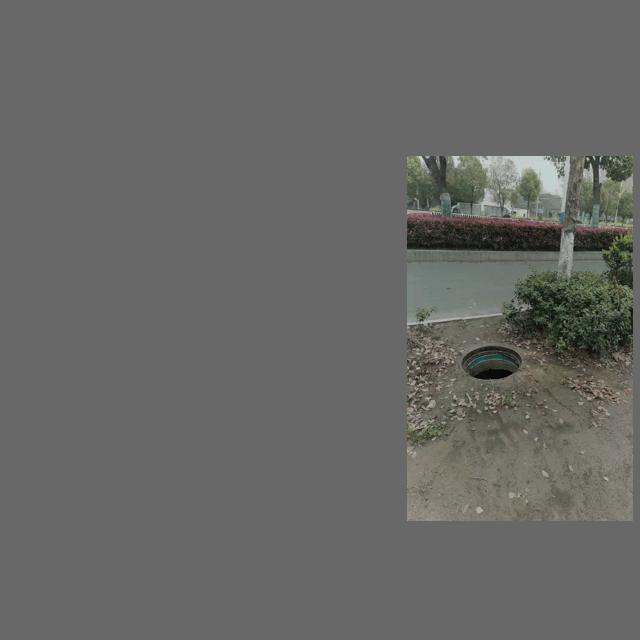lose: (455, 339, 526, 385)
